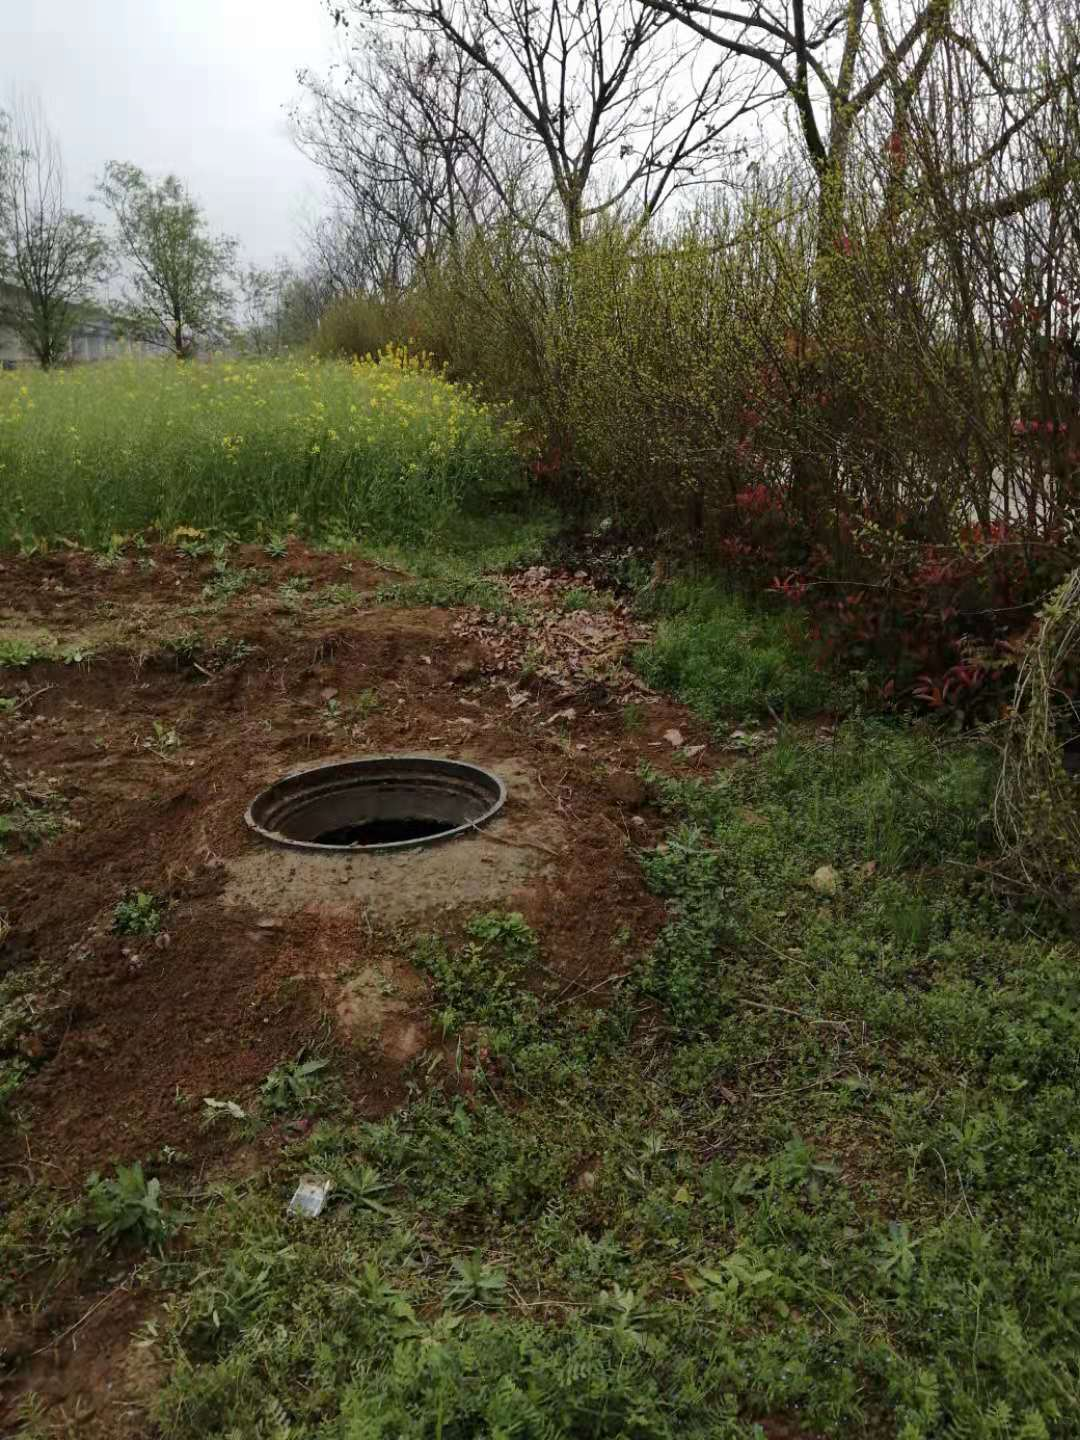well: (241, 749, 507, 855)
